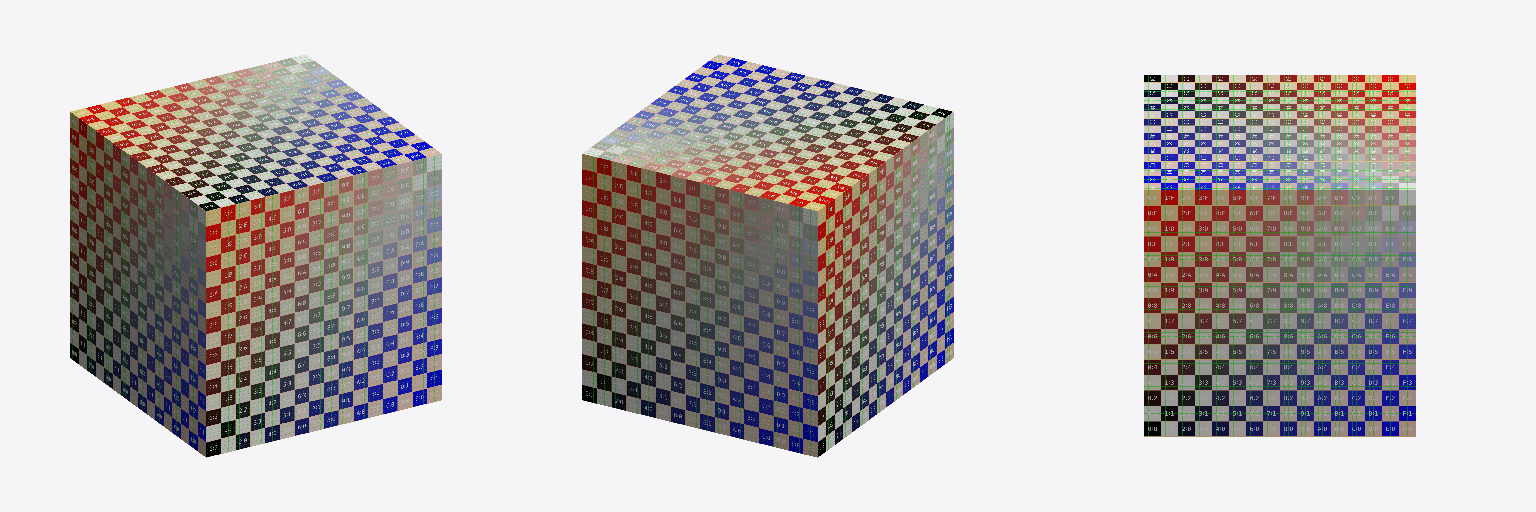
The picture shows the model from 3 angles: view 1: azimuth 30°, elevation 25°; view 2: azimuth 150°, elevation 25°; view 3: azimuth 270°, elevation 25°; orthographic projection.
Visible parts, largest first — view 1: cube; view 2: cube; view 3: cube.
Part boxes in pixels (x1,y1,x2,y2): cube: (70, 54, 441, 457); cube: (582, 54, 953, 457); cube: (1144, 75, 1415, 436).
Size of the model in its own units: 0.04 by 0.04 by 0.04.
1 materials, 1 textured.